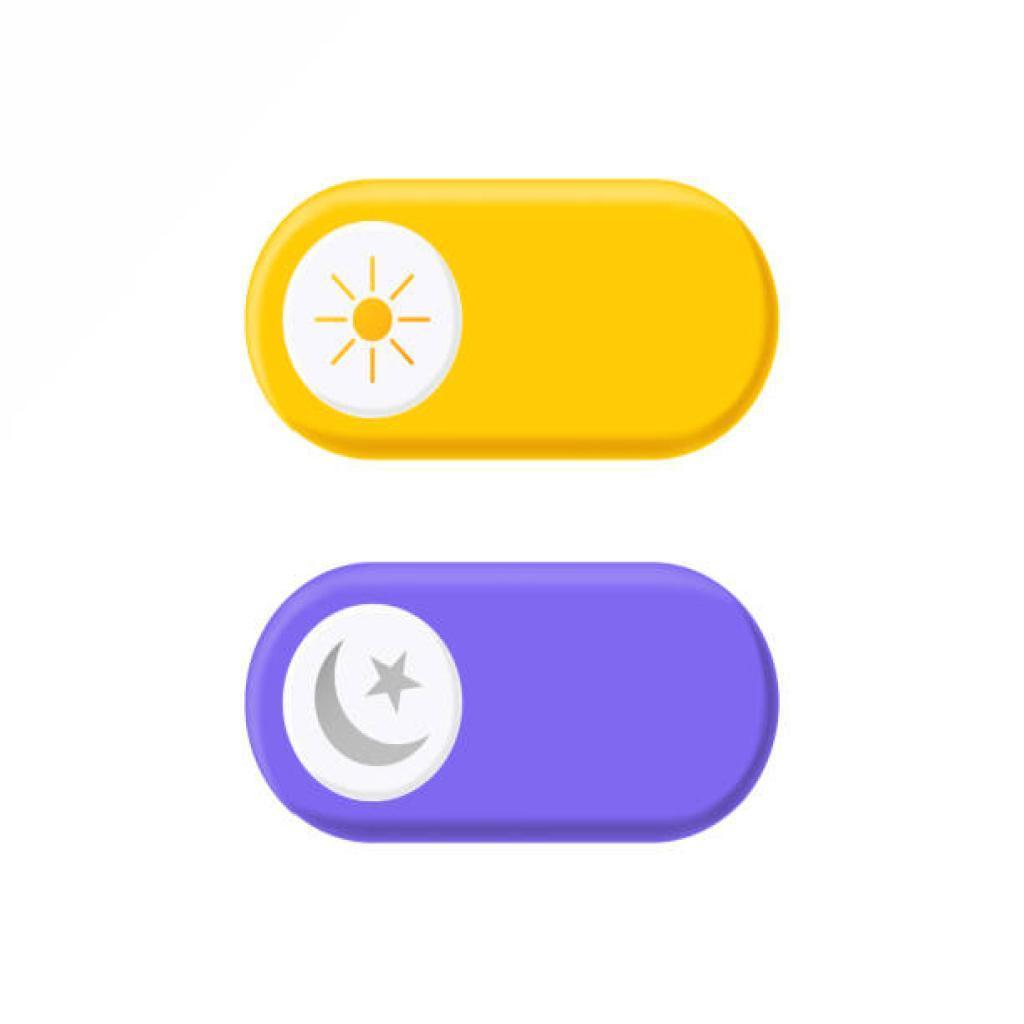switch: (246, 567, 788, 839), (249, 183, 779, 456)
